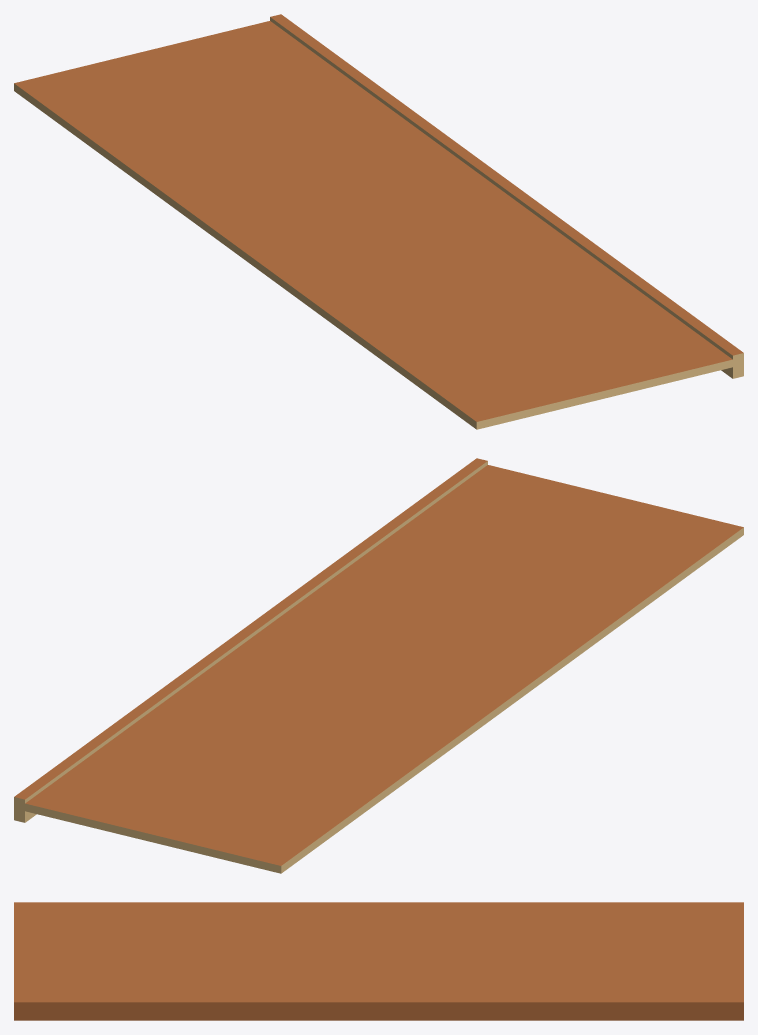
The model's file is cabinet_right.dae.
3 renders of one model, top to bottom at view 1: azimuth 30°, elevation 25°; view 2: azimuth 150°, elevation 25°; view 3: azimuth 270°, elevation 25°, orthographic. The views are drawn at different scales.
Parts seen in each view (by area): view 1: S_5 (×2), ST_4 (×2); view 2: S_5 (×2), ST_4 (×2); view 3: S_5, ST_4.
Boxes of the visible parts, box(x1,y1,x2,y2) form: S_5 (×2): box(14, 21, 732, 429); ST_4 (×2): box(270, 14, 743, 378); S_5 (×2): box(25, 465, 743, 873); ST_4 (×2): box(14, 458, 487, 822); S_5: box(14, 902, 743, 997); ST_4: box(14, 998, 743, 1020).
Size of the model in its own units: 18 by 1.5 by 54.
